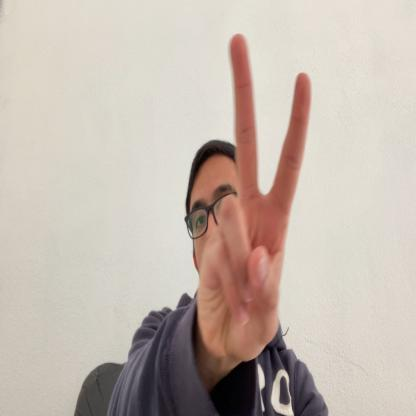V: (198, 34, 311, 365)
